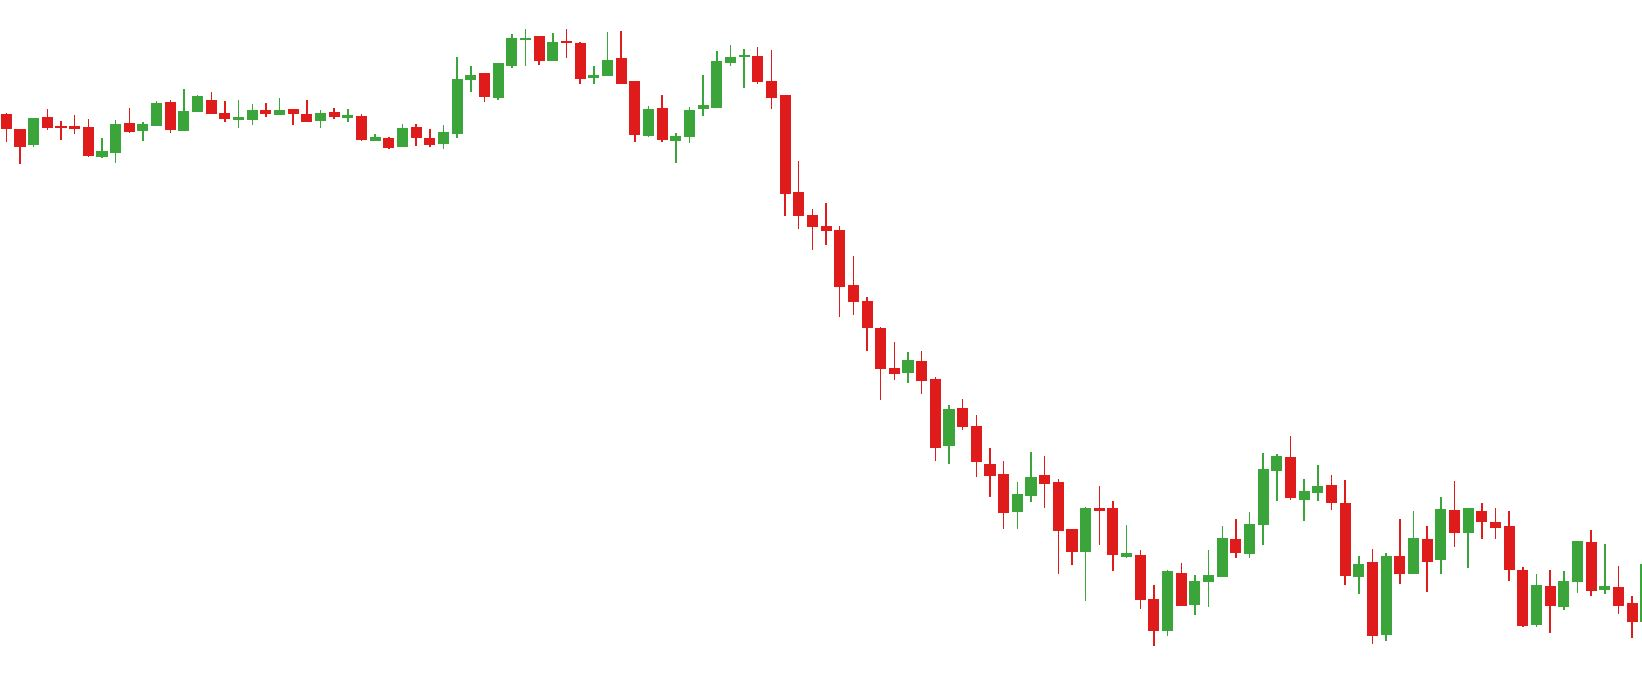buy: (1418, 520, 1543, 631)
